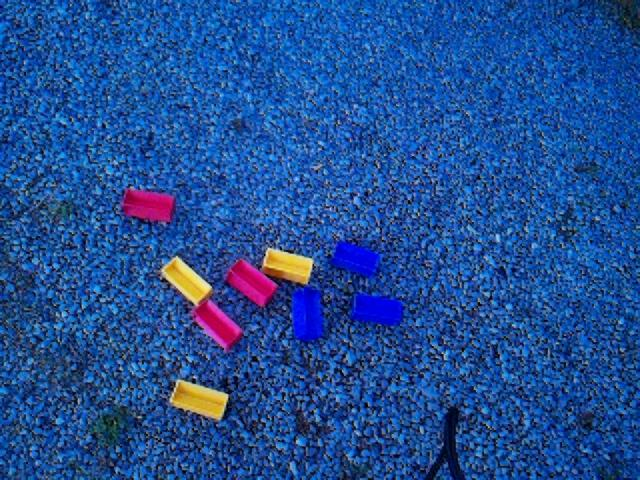blue: (330, 241, 382, 278), (291, 286, 325, 342), (350, 292, 404, 327)
red: (192, 299, 244, 352), (225, 259, 278, 308), (120, 188, 176, 224)
yellow: (161, 256, 214, 306), (169, 379, 230, 422), (262, 248, 315, 285)
